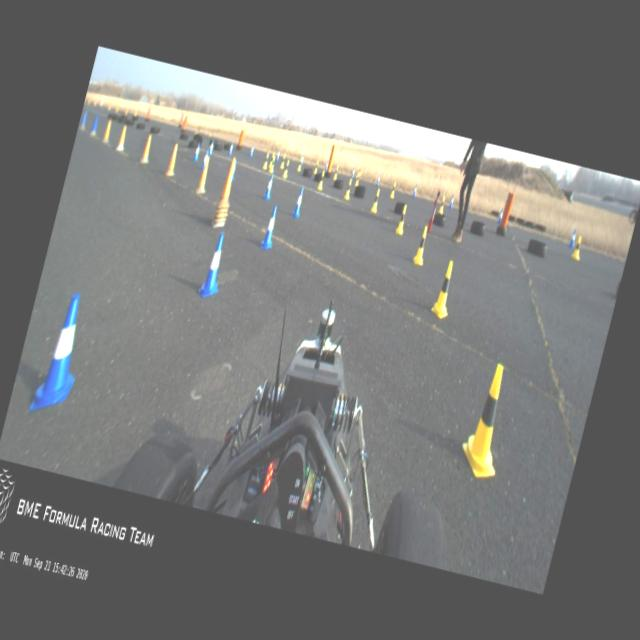blue_cone: (28, 286, 96, 419), (196, 231, 232, 300), (259, 203, 282, 251), (291, 186, 306, 218), (262, 172, 275, 200), (200, 148, 210, 170), (192, 142, 202, 161), (568, 229, 578, 248), (230, 160, 238, 182), (496, 208, 504, 224), (448, 193, 455, 210), (208, 138, 215, 154), (412, 184, 418, 198), (227, 142, 233, 156), (248, 144, 254, 158), (274, 148, 280, 162), (350, 166, 356, 179), (376, 173, 380, 188), (324, 159, 328, 172)
unknown_cone: (216, 156, 240, 209), (194, 156, 213, 194), (164, 142, 182, 176), (140, 134, 154, 164), (115, 124, 129, 152), (101, 118, 114, 144), (88, 112, 100, 136), (78, 108, 90, 130), (133, 106, 138, 116), (114, 103, 119, 113), (124, 106, 128, 116), (92, 97, 96, 106), (107, 102, 111, 110)
yellow_cone: (455, 358, 521, 481), (429, 258, 460, 320), (412, 225, 432, 266), (394, 204, 408, 236), (571, 234, 585, 260), (370, 188, 381, 212), (343, 178, 353, 200), (316, 171, 326, 190), (437, 195, 446, 213), (262, 151, 270, 169), (282, 160, 290, 178), (269, 154, 277, 171), (312, 158, 320, 174), (390, 182, 398, 198), (332, 164, 340, 180), (296, 156, 303, 172), (354, 171, 361, 186), (280, 152, 286, 168), (268, 152, 274, 166)
